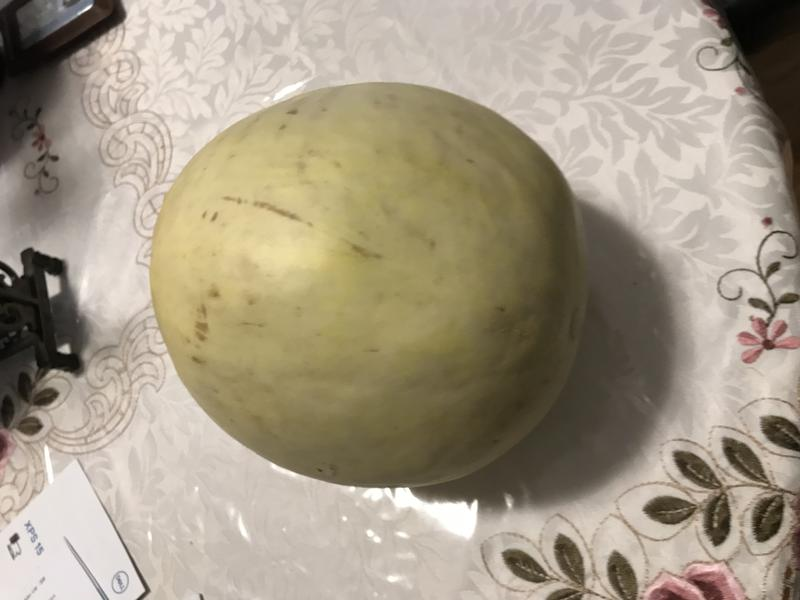honeydew: (145, 77, 591, 498)
